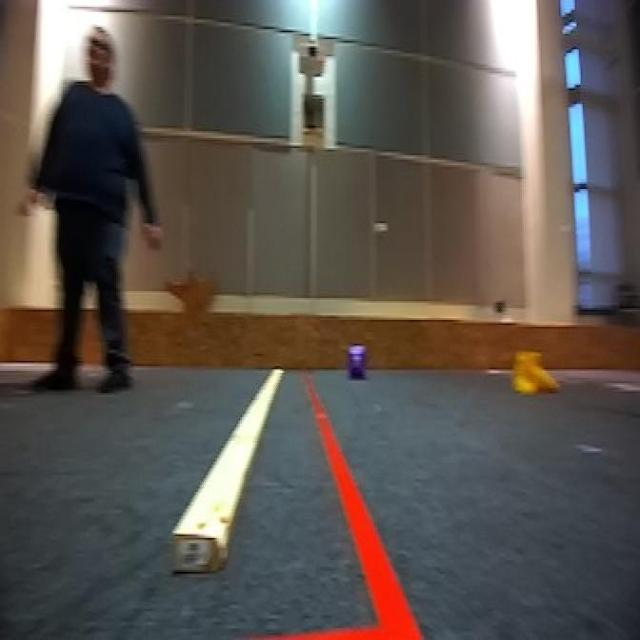frc_cone: (512, 345, 558, 395)
frc_cube: (348, 347, 368, 378)
